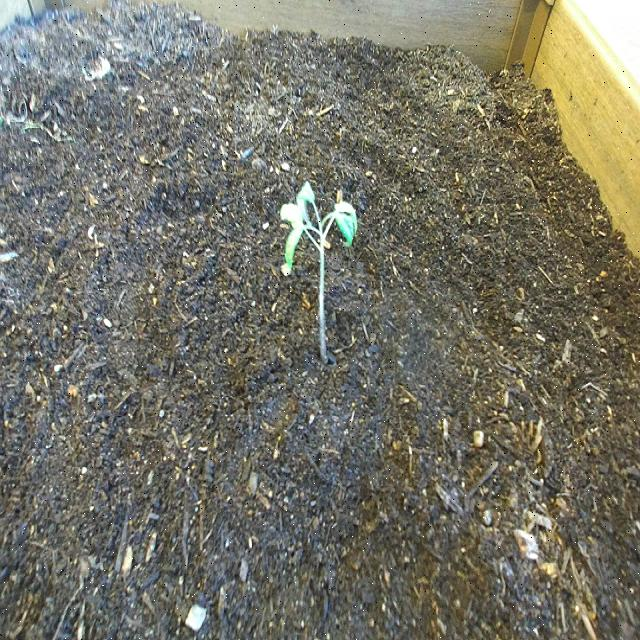Healthy: (272, 168, 364, 380)
